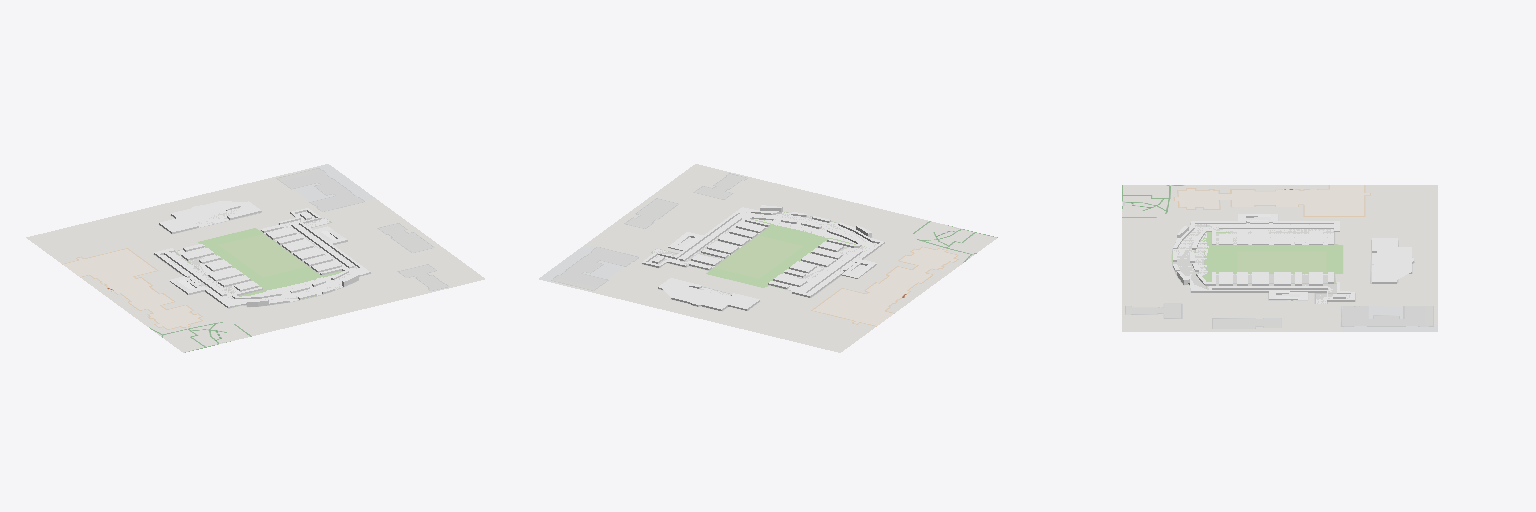
3 views of the same model, side by side, from view 1: azimuth 30°, elevation 25°; view 2: azimuth 150°, elevation 25°; view 3: azimuth 270°, elevation 25° (orthographic).
Visible parts, largest first — view 1: Mesh3 Model, Mesh1 Model, Mesh2 Model; view 2: Mesh3 Model, Mesh1 Model, Mesh2 Model; view 3: Mesh3 Model, Mesh1 Model, Mesh2 Model.
Part boxes in pixels (bbox=[...]): Mesh3 Model: bbox=[26, 164, 484, 352]; Mesh1 Model: bbox=[154, 208, 370, 307]; Mesh2 Model: bbox=[159, 201, 261, 233]; Mesh3 Model: bbox=[539, 164, 997, 352]; Mesh1 Model: bbox=[642, 205, 884, 297]; Mesh2 Model: bbox=[658, 278, 759, 310]; Mesh3 Model: bbox=[1122, 185, 1437, 331]; Mesh1 Model: bbox=[1173, 214, 1354, 303]; Mesh2 Model: bbox=[1372, 238, 1413, 283].
Size of the model in its own units: 1168 by 18.02 by 1055.
2 materials, 1 textured.